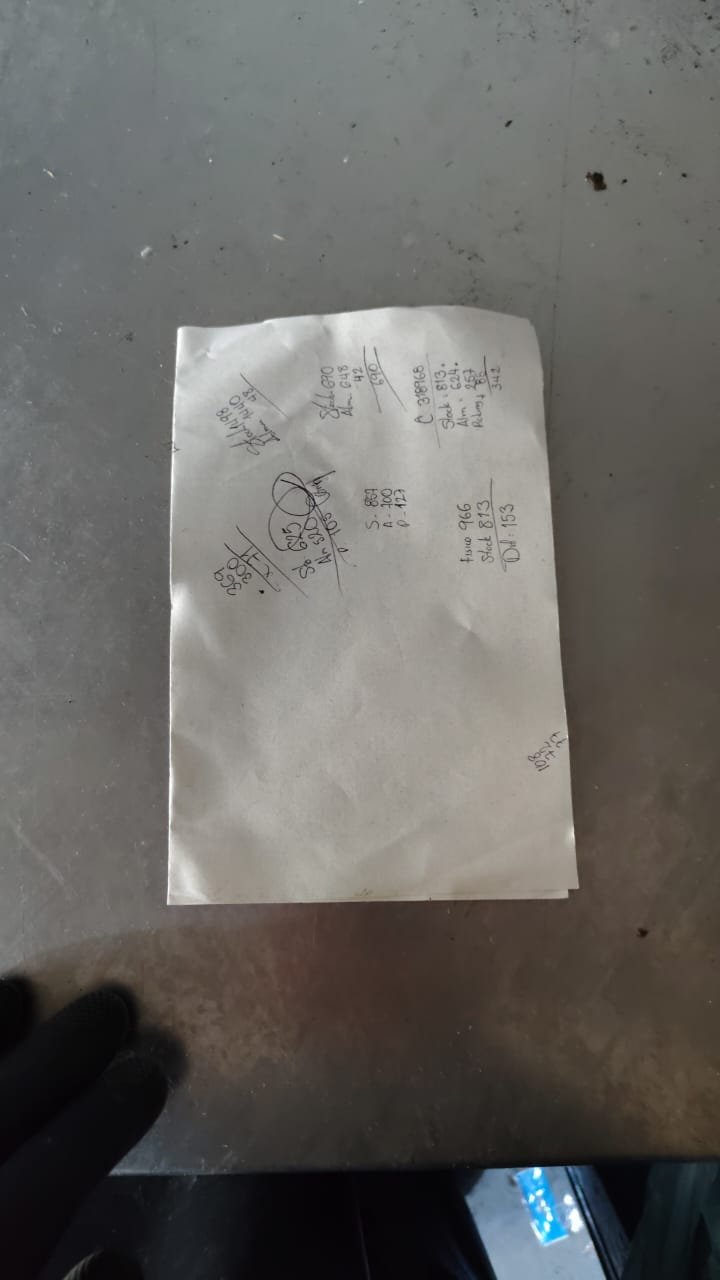Papel: (166, 303, 582, 905)
